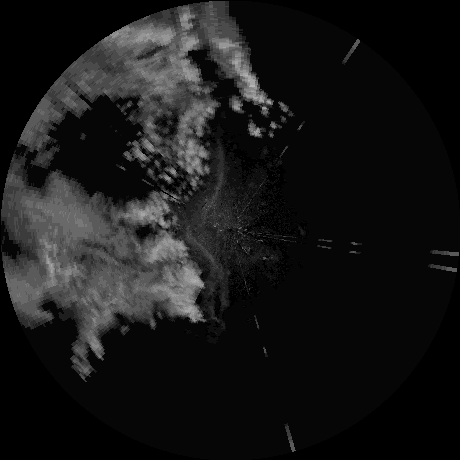frontgust: (185, 222, 230, 322), (202, 141, 227, 223)
